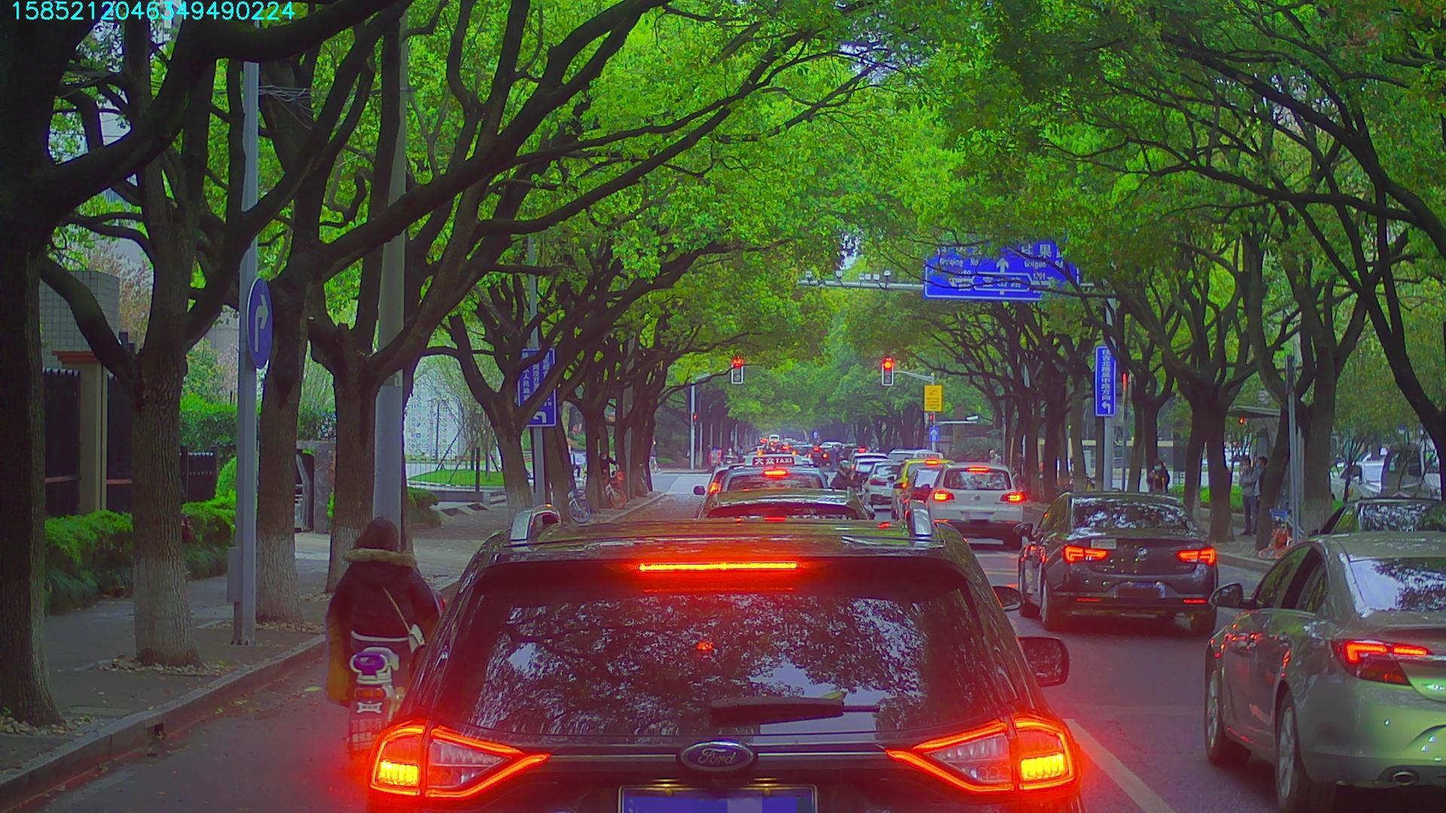red: (731, 352, 742, 382), (882, 357, 892, 384)
